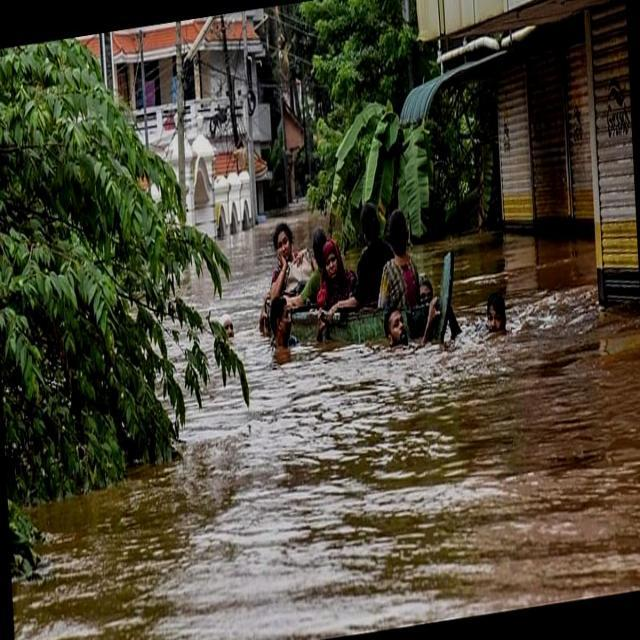flood: (139, 158, 640, 639)
